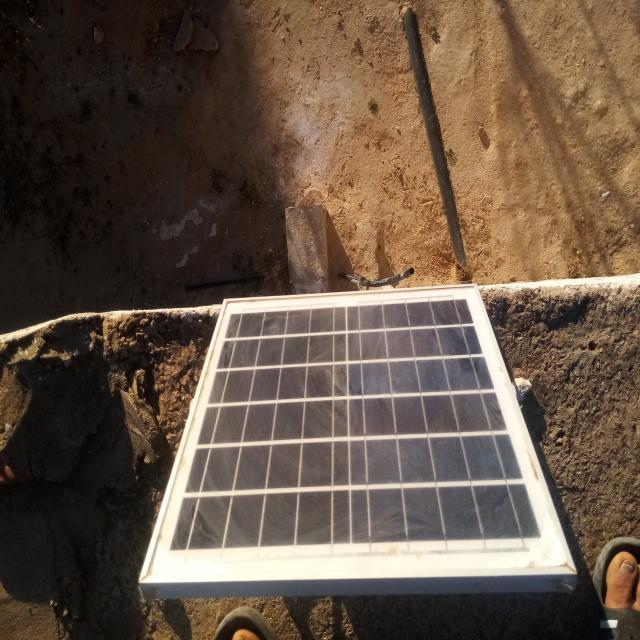faulty: (142, 283, 576, 577)
